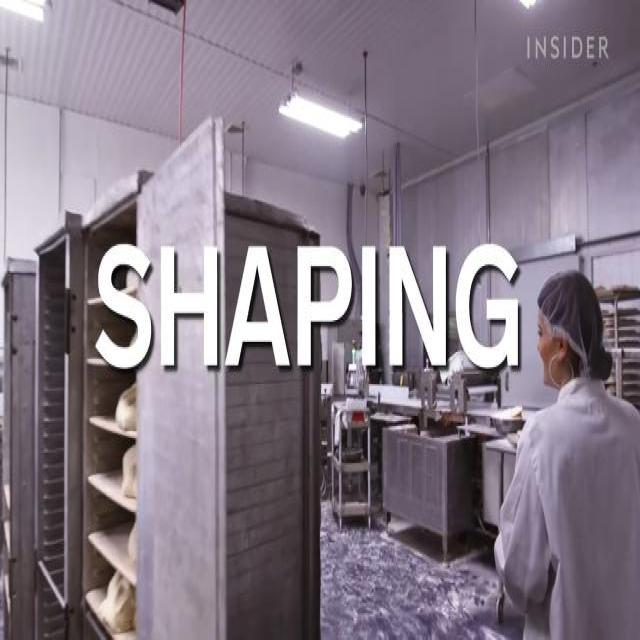hairnet: (539, 279, 608, 382)
